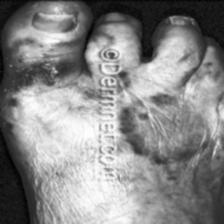Toxin: (2, 12, 74, 100), (119, 67, 138, 91)
